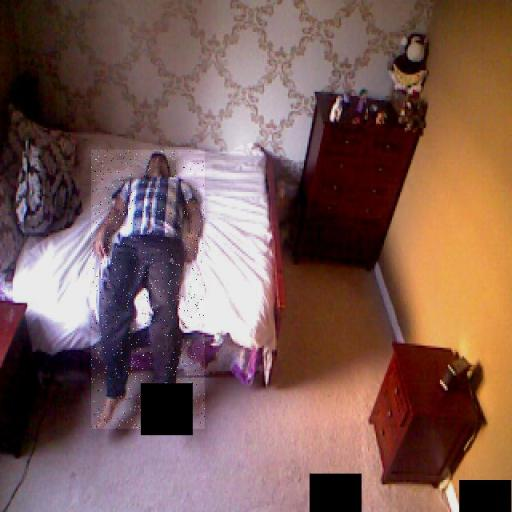Fall: (91, 150, 205, 429)
